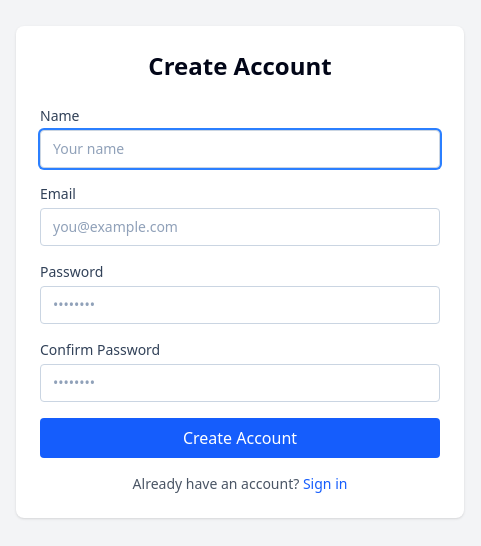
Test case: RegisterPage › shows validation error when confirm password does not match
Type "Ankit" into the field with placeholder "Your name" at (240, 149), box 40,130 -> 440,168
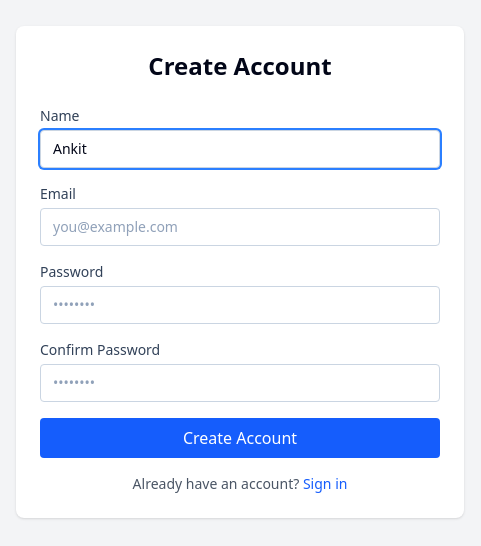
Type "ankit@example.com" into the field with placeholder "you@example.com" at (240, 227), box 40,208 -> 440,246
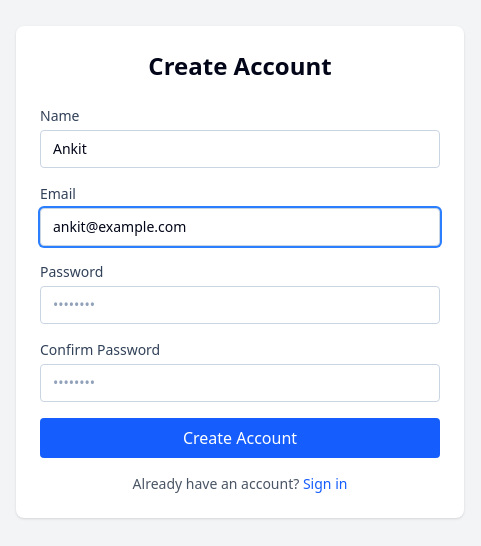
Type "password123" into the 1st password field with placeholder "••••••••" at (240, 305), box 40,286 -> 440,324
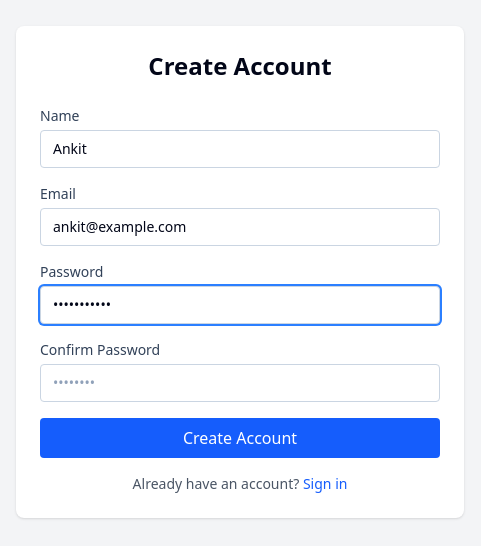
Type "password456" into the password field with placeholder "••••••••" at (240, 383), box 40,364 -> 440,402
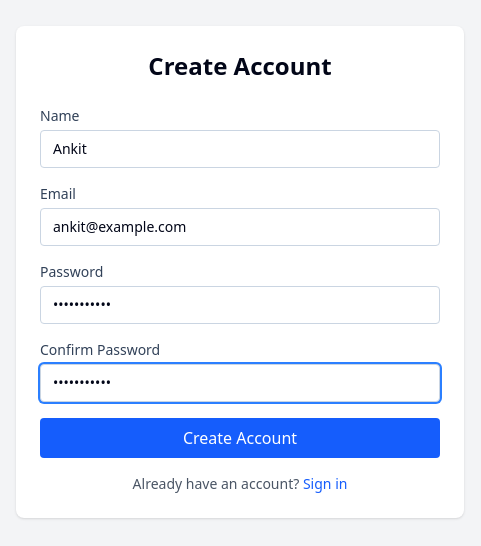
Click the button "Create Account" at (240, 438), box 40,418 -> 440,458
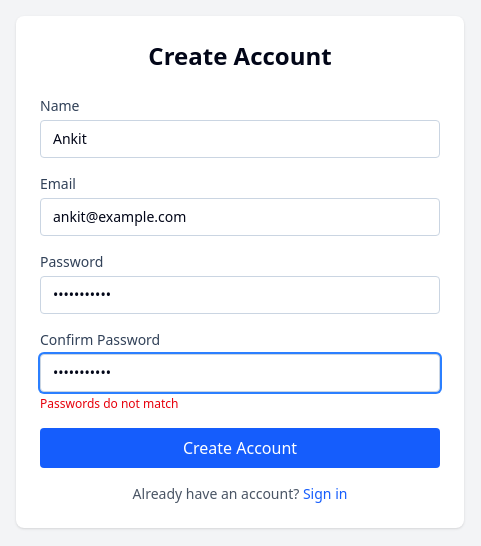
Expected: the text "Passwords do not match" is shown, 40,395 -> 178,412
